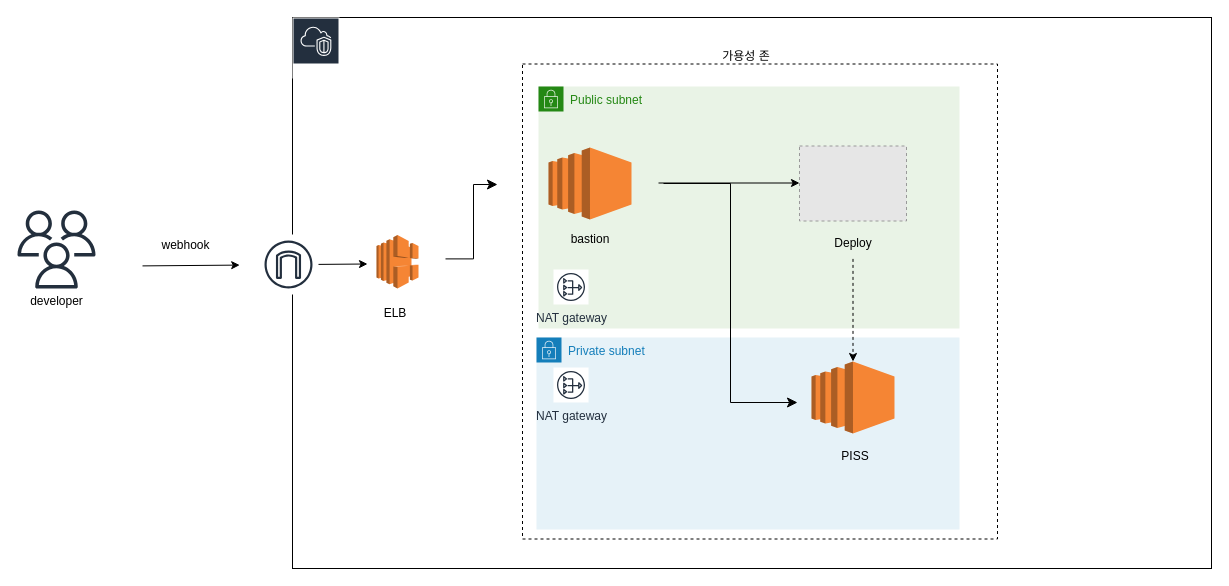
This 1229x586 diagram has some shape labels left out. Grey dashed boxes stand in for pictures. Each missing label, with the centre of its shape:
Amazon VPC: [316,47]
Internet gateway: [288,264]
